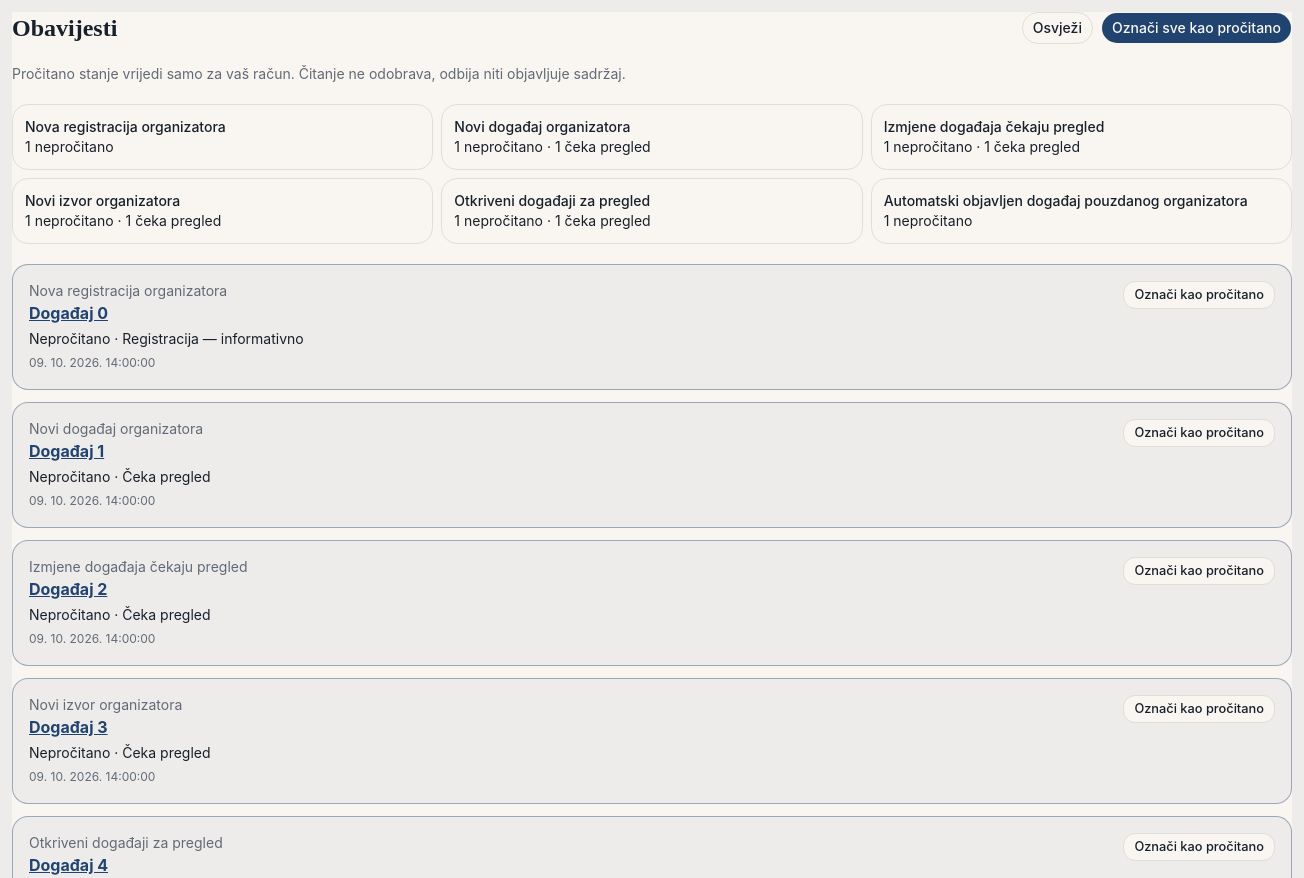
Test case: admin notification workflow › keeps unread state on persistence failure and offers an understandable error
Click the button "Označi kao pročitano" in the row of "Događaj 0" at (1199, 295), box [1123, 281, 1275, 309]
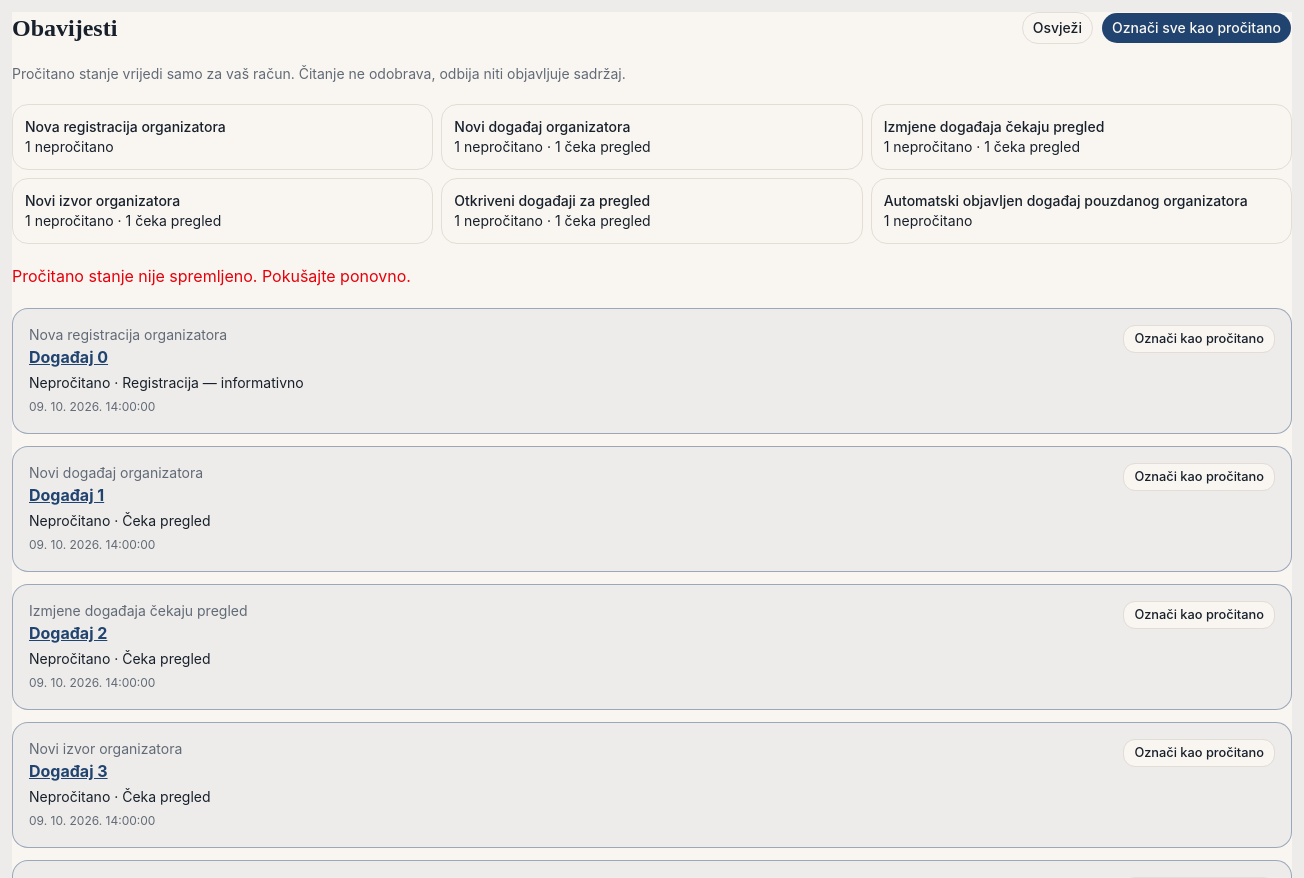
Result: the message "Pročitano stanje nije spremljeno. Pokušajte ponovno." is shown at [12, 266, 411, 286]
